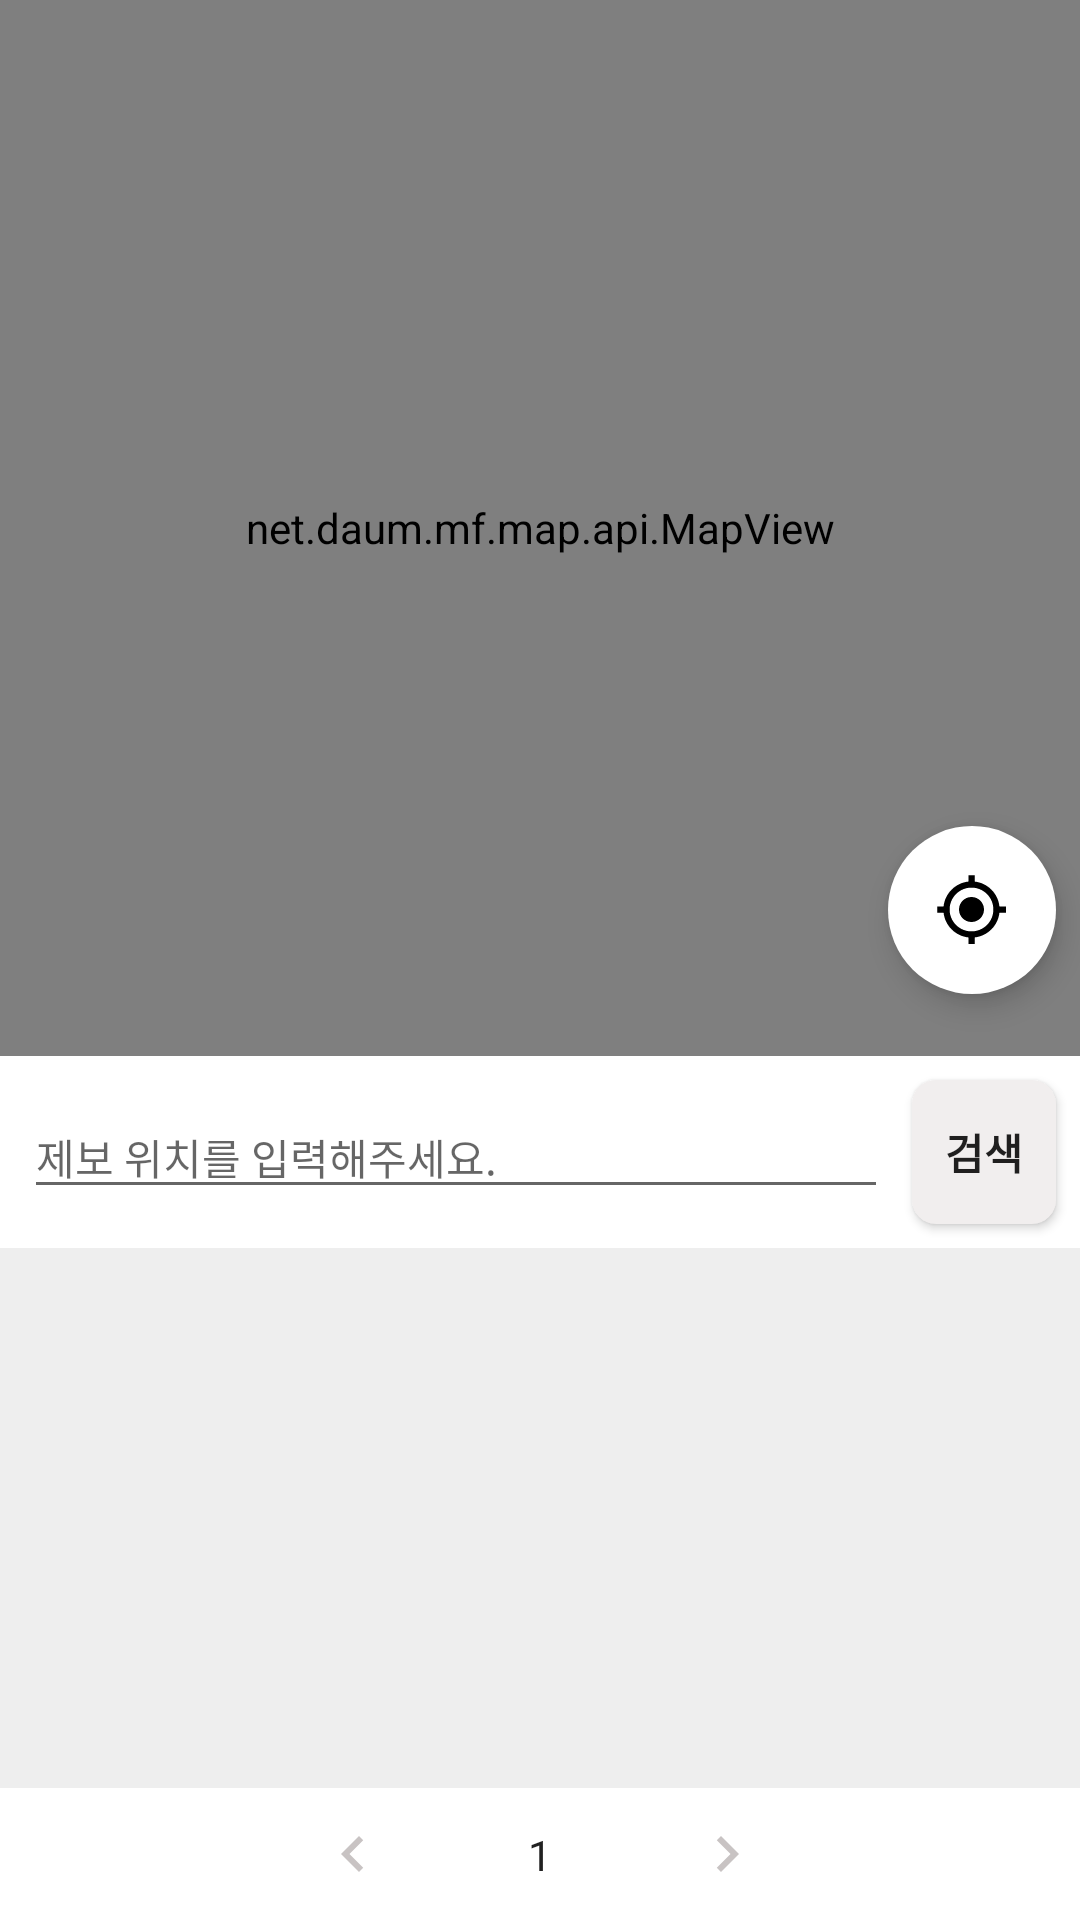

Icon click points for this 1080 x 1920 phone screenshot, format [x,y]:
chevron left: [352,1854]
chevron right: [728,1854]
location: [972,910]
